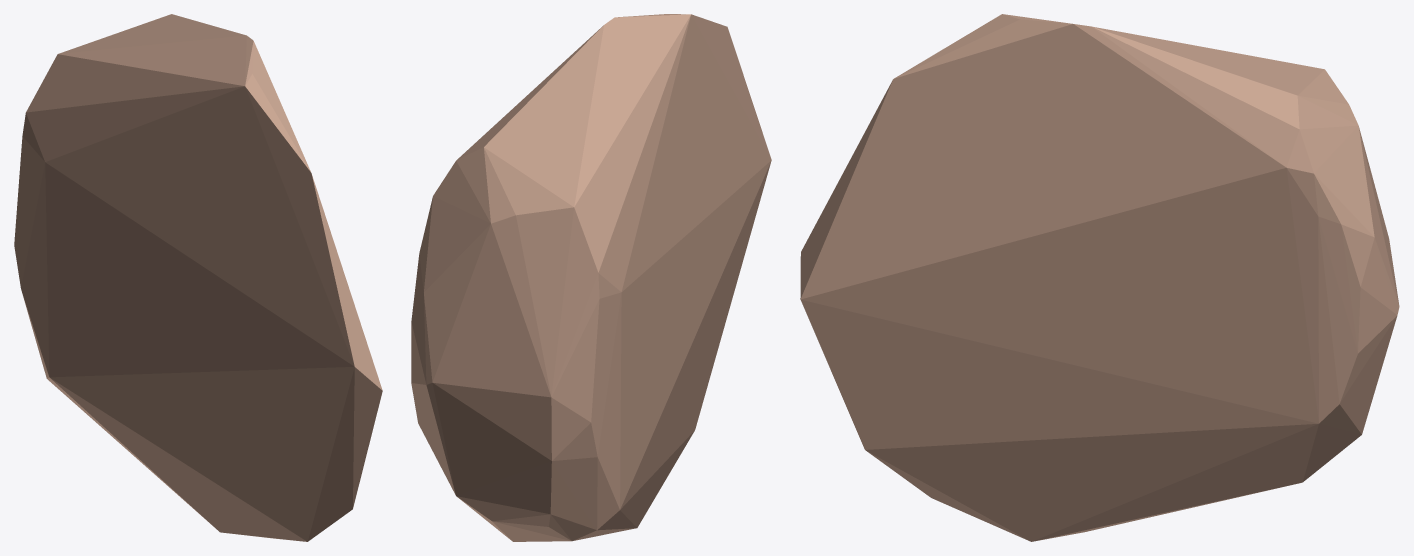
Rendered from brakeSystem_brakes_assembly_b01.glb.
The picture shows the model from 3 angles, left to right: view 1: azimuth 30°, elevation 25°; view 2: azimuth 150°, elevation 25°; view 3: azimuth 270°, elevation 25°; orthographic projection. The views are drawn at different scales.
Parts seen in each view (by area): view 1: geometry_0; view 2: geometry_0; view 3: geometry_0.
Part boxes in pixels (x1,y1,x2,y2): geometry_0: (14,14,382,541); geometry_0: (411,14,771,541); geometry_0: (800,14,1399,541).
Size of the model in its own units: 0.174 by 0.4616 by 0.4794.
